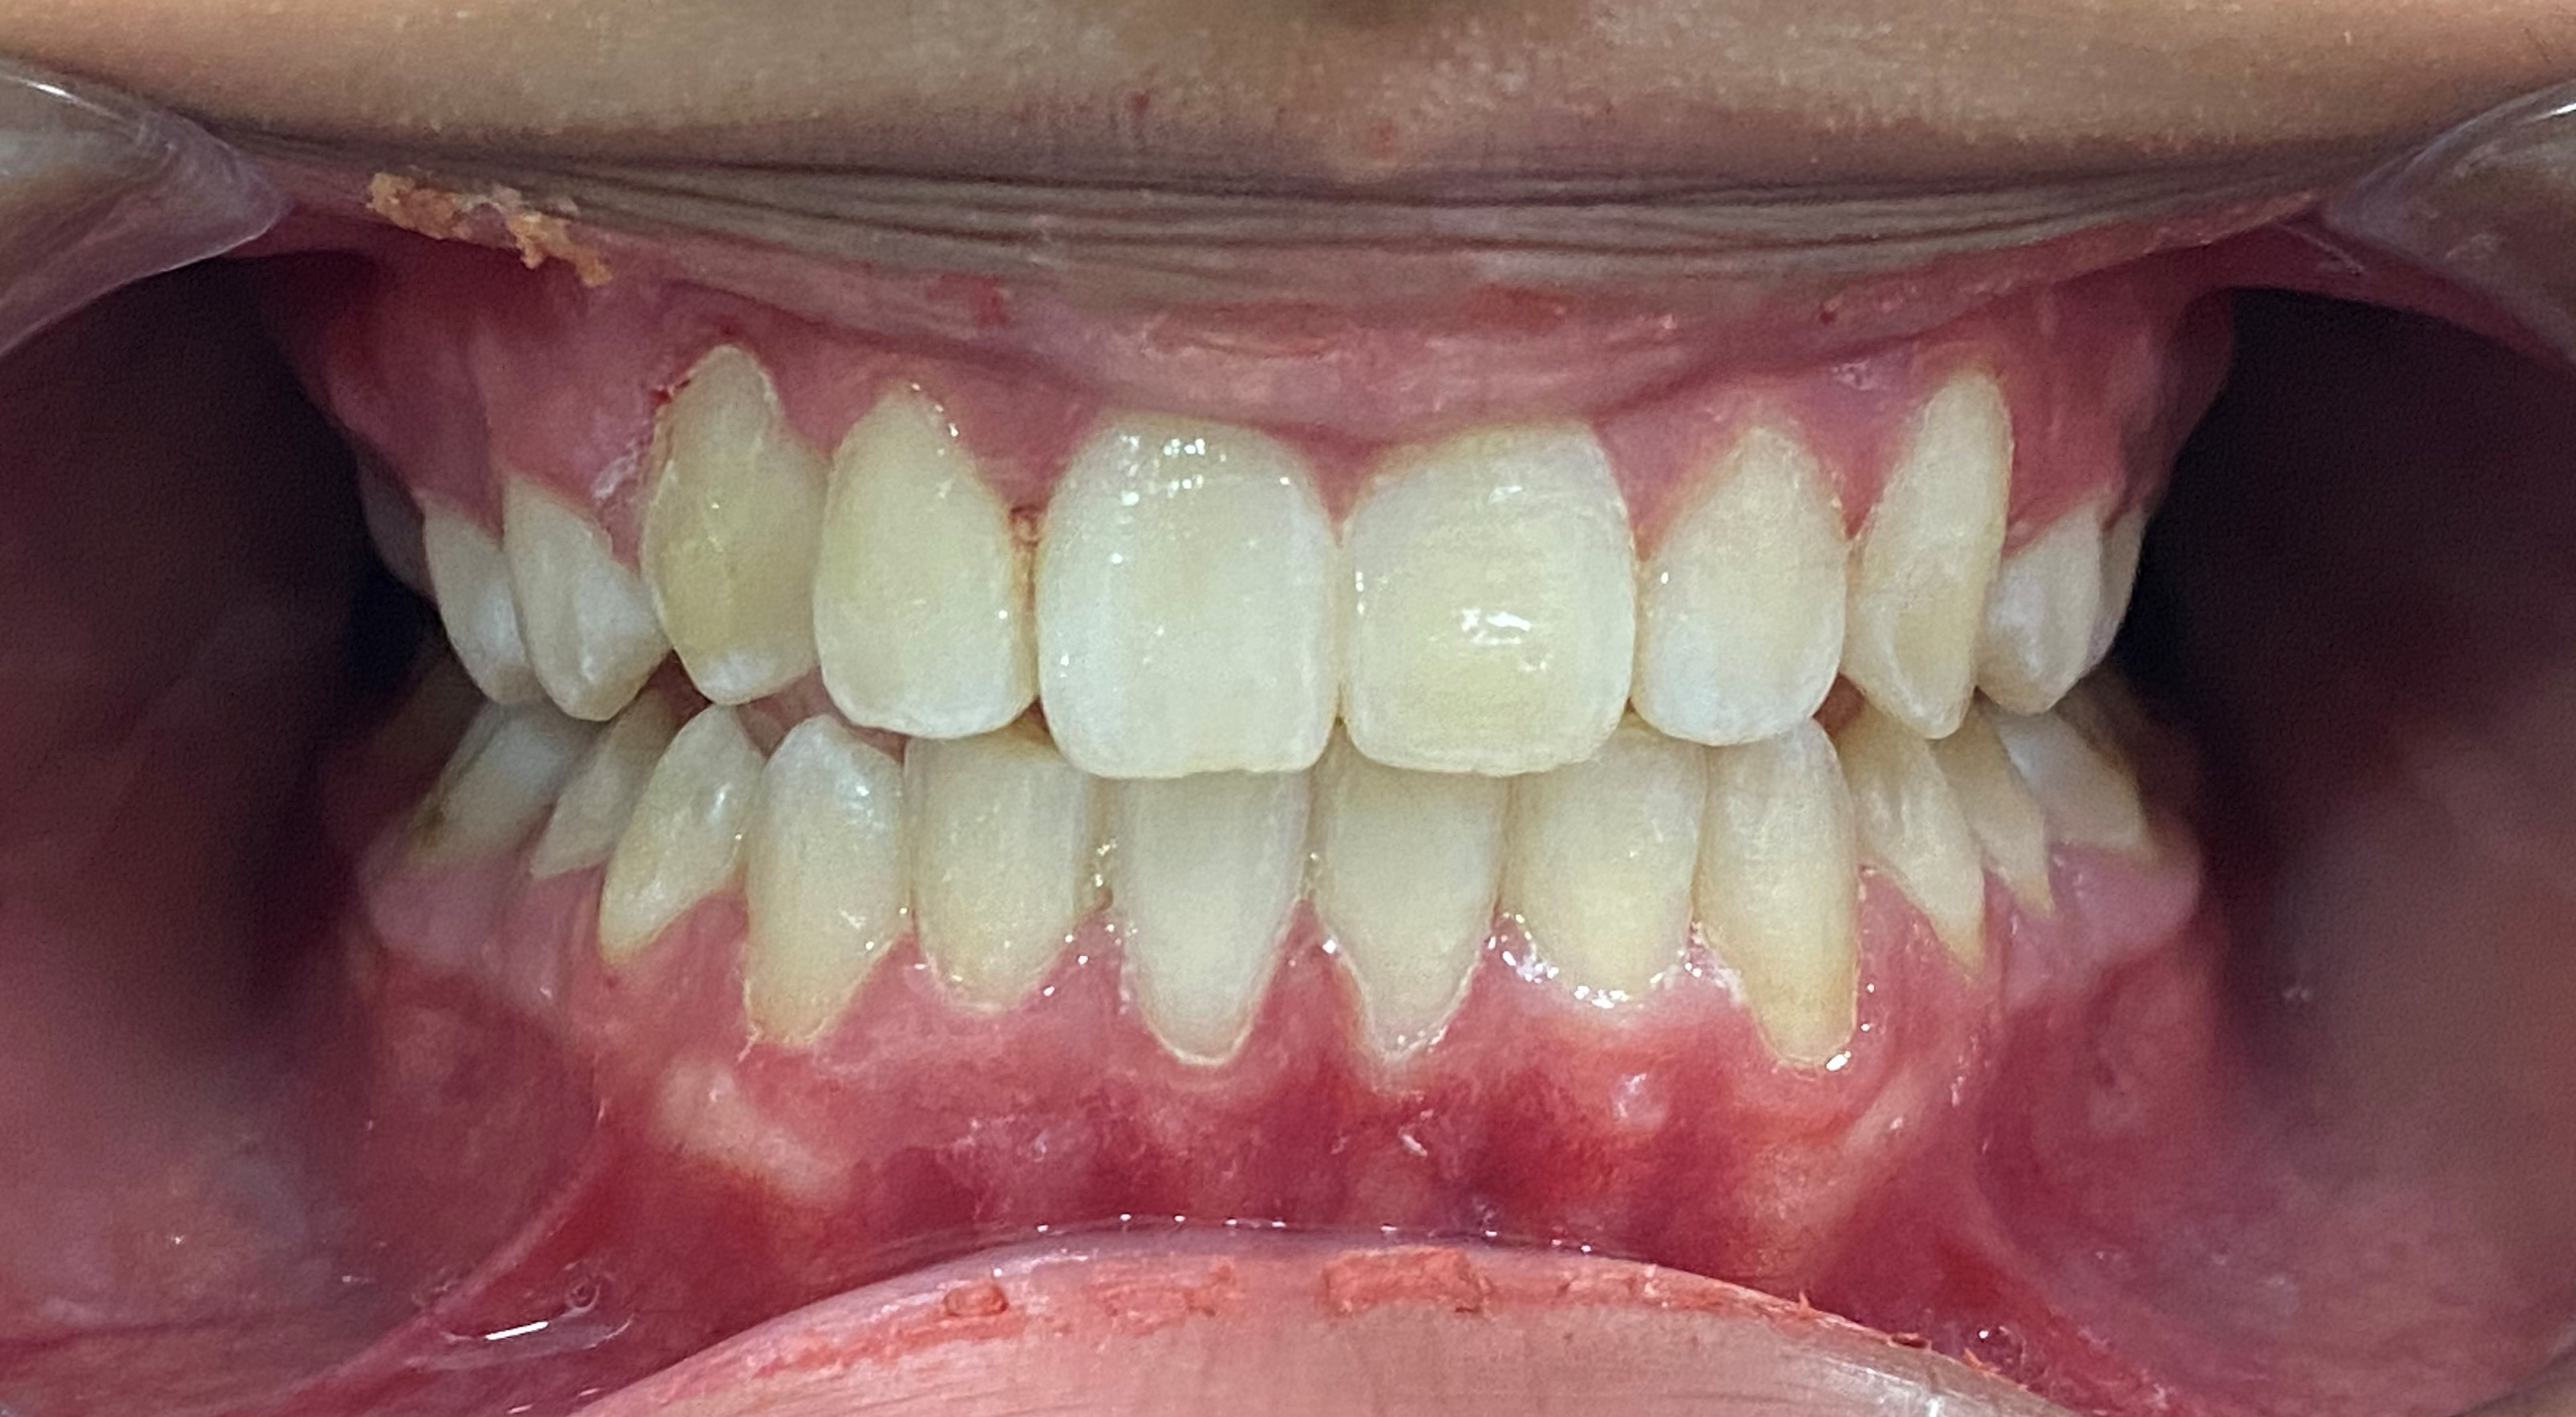LL1BC_mdecay: (1857, 736, 1990, 963)
LL1M_mdecay: (2047, 733, 2140, 857)
LL2BC_mdecay: (1967, 740, 2051, 925)
LLCI_mdecay: (1311, 770, 1501, 1049)
LLC_mdecay: (1702, 747, 1867, 1056)
LLLI_mdecay: (1510, 778, 1700, 988)
LR1BC_mdecay: (606, 724, 740, 969)
LR1M_mdecay: (412, 722, 541, 857)
LR2BC_mdecay: (543, 729, 614, 878)
LRCI_mdecay: (1117, 777, 1307, 1058)
LRC_mdecay: (749, 742, 902, 1040)
LRLI_mdecay: (909, 740, 1086, 1014)
UL1BC_mdecay: (2002, 524, 2091, 710)
UL2BC_mdecay: (2105, 524, 2133, 633)
ULCI_mdecay: (1328, 429, 1634, 773)
ULC_mdecay: (1848, 396, 2004, 733)
ULLI_mdecay: (1634, 442, 1848, 736)
UR1BC_mdecay: (501, 476, 644, 717)
UR2BC_mdecay: (419, 496, 508, 709)
URCI_mdecay: (1038, 424, 1333, 773)
URC_mdecay: (647, 382, 803, 702)
URLI_mdecay: (810, 414, 1031, 729)
